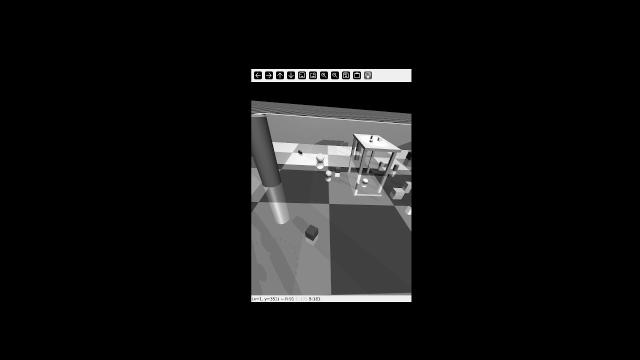cilindro: (251, 115, 290, 188), (353, 178, 361, 190), (392, 163, 402, 172), (357, 137, 362, 153), (370, 133, 374, 139)
cuadrado: (301, 222, 324, 243), (401, 179, 412, 189), (334, 163, 343, 174), (406, 149, 412, 162), (377, 136, 382, 142), (297, 148, 301, 153), (299, 151, 303, 154)
esfera: (314, 151, 329, 163), (324, 168, 334, 177), (361, 176, 370, 184), (369, 138, 374, 143)
rectangulo: (390, 184, 405, 197), (379, 159, 390, 169)
